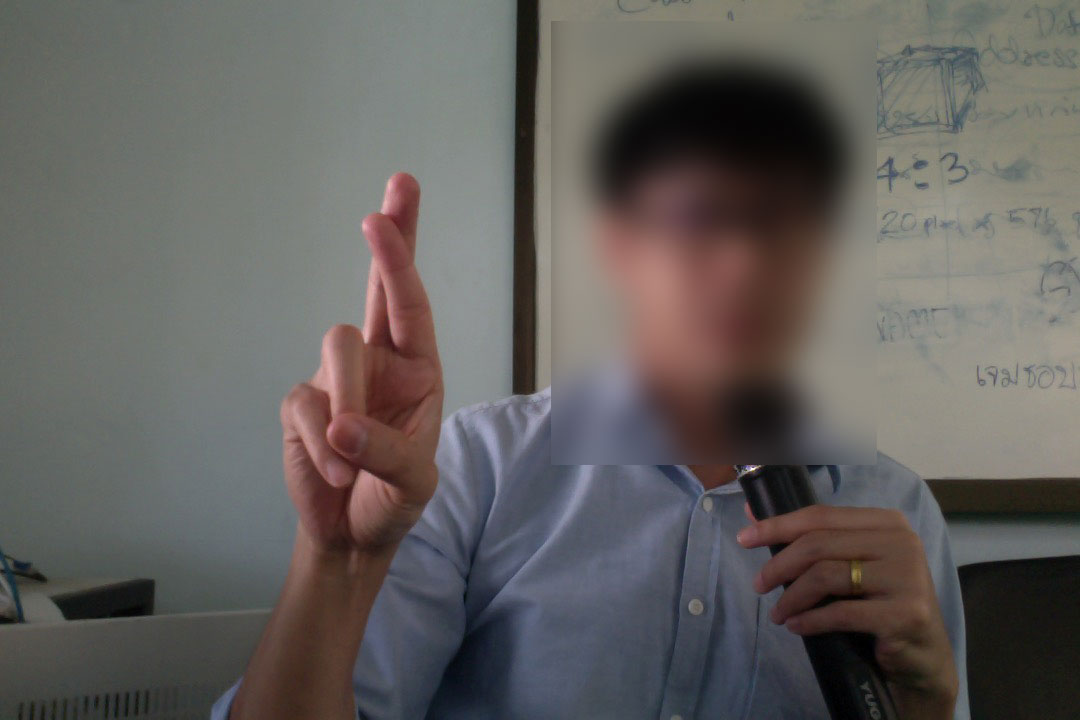rao: (273, 164, 463, 548)
